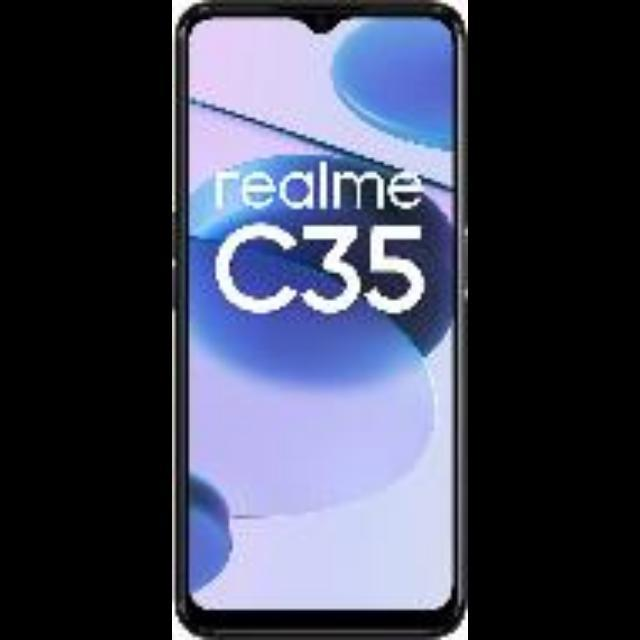phone: (171, 0, 474, 628)
